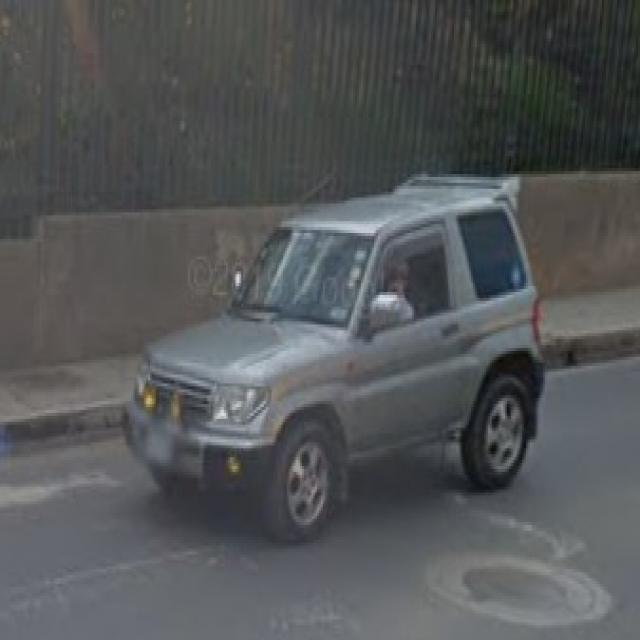cars: (124, 190, 541, 537)
